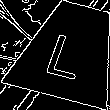L_N: (44, 23, 96, 79)
